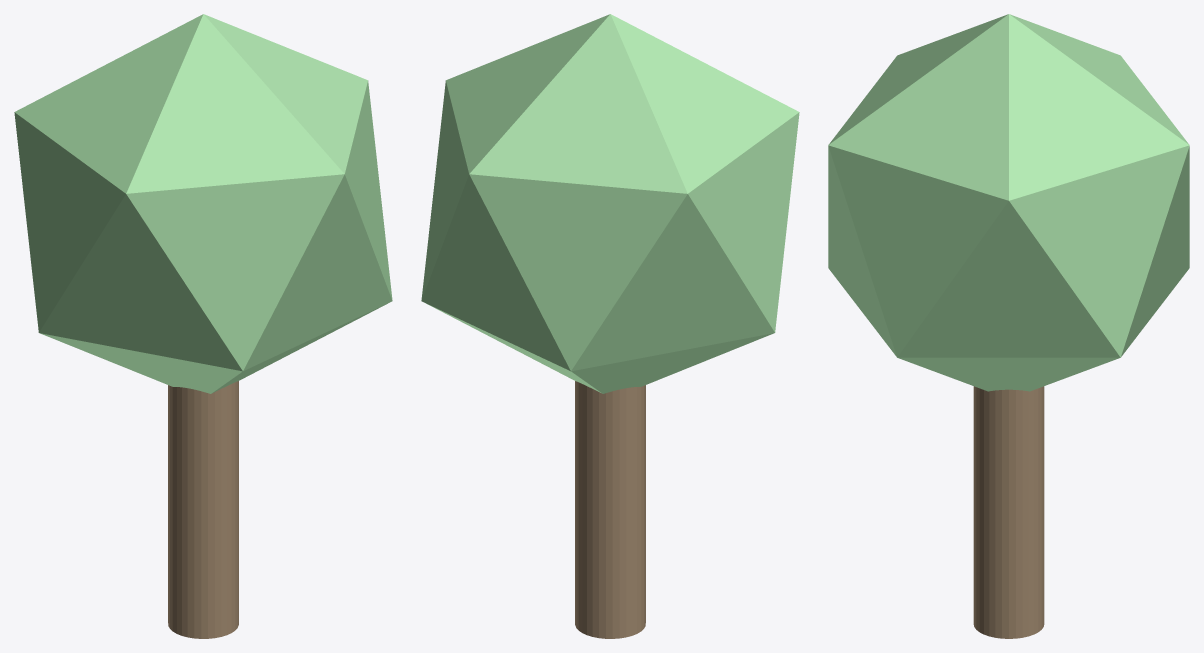
File: sapling.glb
The picture shows the model from 3 angles, left to right: view 1: azimuth 30°, elevation 25°; view 2: azimuth 150°, elevation 25°; view 3: azimuth 270°, elevation 25°; orthographic projection.
Parts seen in each view (by area): view 1: Icosphere, Cylinder; view 2: Icosphere, Cylinder; view 3: Icosphere, Cylinder.
Boxes of the visible parts, x1=… form: Icosphere: x1=14, y1=14, x2=392, y2=393; Cylinder: x1=168, y1=381, x2=238, y2=638; Icosphere: x1=421, y1=14, x2=799, y2=393; Cylinder: x1=575, y1=381, x2=645, y2=638; Icosphere: x1=828, y1=14, x2=1189, y2=391; Cylinder: x1=973, y1=386, x2=1044, y2=638.
Bounding box in the file's own units: 1.07 × 1.9 × 1.02.
